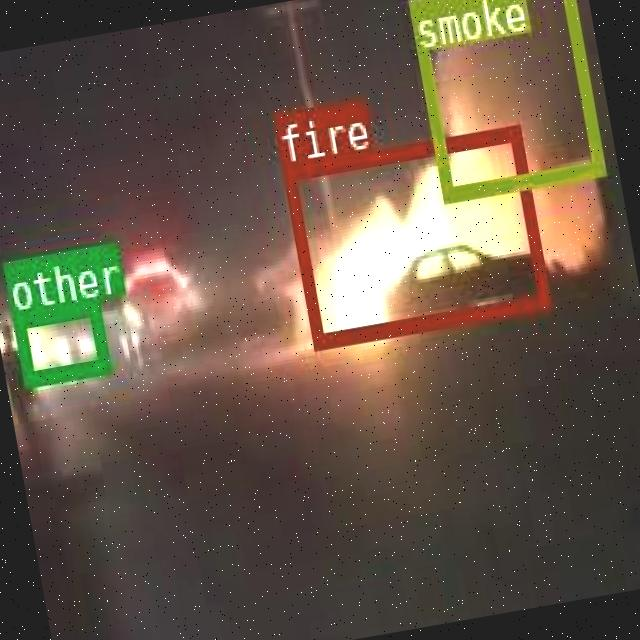fire: (279, 122, 548, 348)
smoke: (405, 0, 602, 199)
